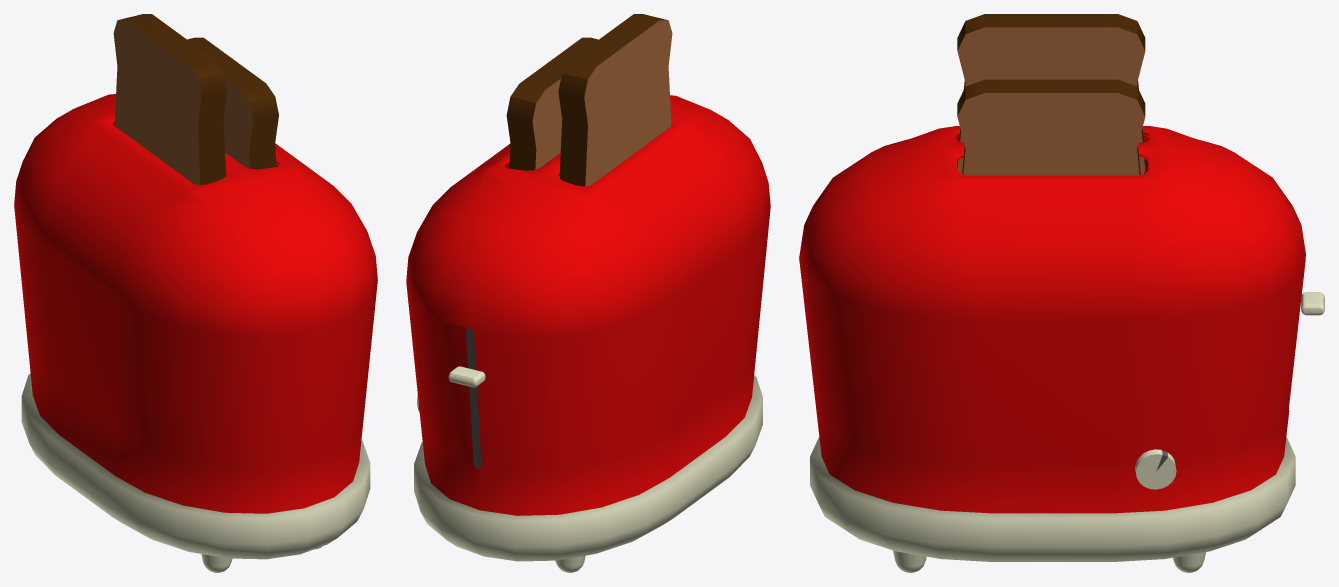
Rendered from toaster.fbx.
3 views of the same model, side by side, from view 1: azimuth 30°, elevation 25°; view 2: azimuth 150°, elevation 25°; view 3: azimuth 270°, elevation 25° (orthographic). The views are drawn at different scales.
Parts seen in each view (by area): view 1: pCube17, pCube19, pCube18; view 2: pCube17, pCube19, pCube18, pCube20; view 3: pCube17, pCube18, pCube19, pCylinder10.
Boxes of the visible parts, <box> form: pCube17: <box>14,94,377,559</box>; pCube19: <box>113,14,227,184</box>; pCube18: <box>187,37,278,169</box>; pCube17: <box>406,95,770,561</box>; pCube19: <box>558,14,672,186</box>; pCube18: <box>506,37,598,178</box>; pCube20: <box>448,366,485,387</box>; pCube17: <box>799,126,1305,561</box>; pCube18: <box>957,79,1145,175</box>; pCube19: <box>957,14,1145,174</box>; pCylinder10: <box>1135,449,1176,489</box>.
Bounding box in the file's own units: 3.69 × 7.1 × 6.62.
